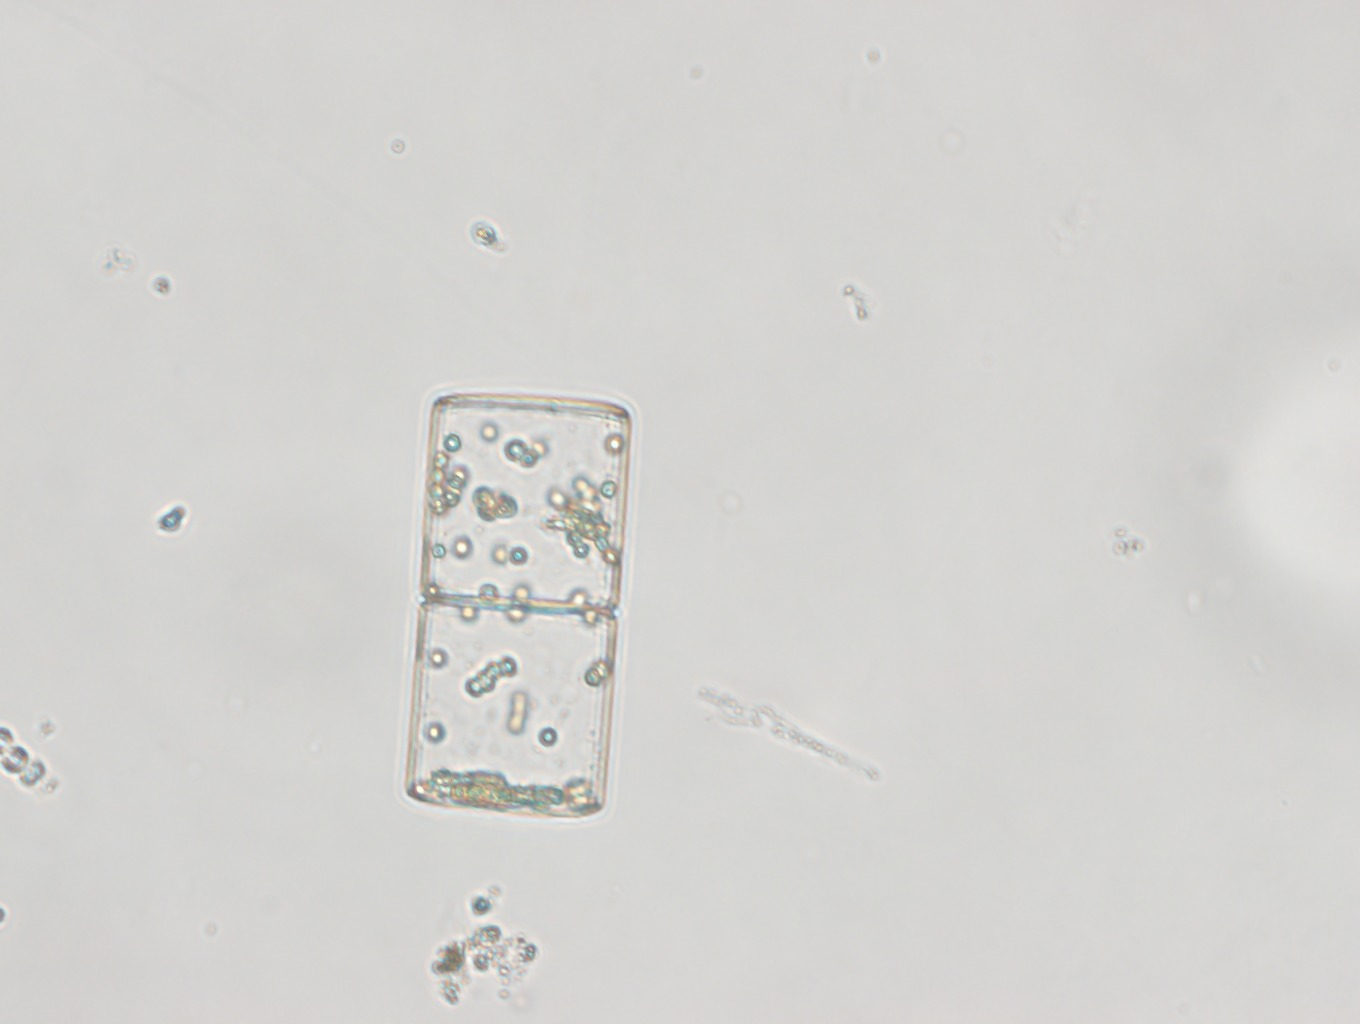guinardia flaccida: (396, 383, 642, 821)
